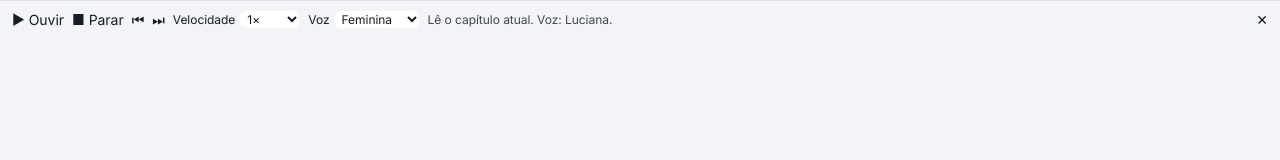
AudioReader › lê em português, pausa, continua e para
This screenshot has width=1280, height=160.
Click the button "▶ Ouvir" at (38, 20), box 12,9 -> 64,31
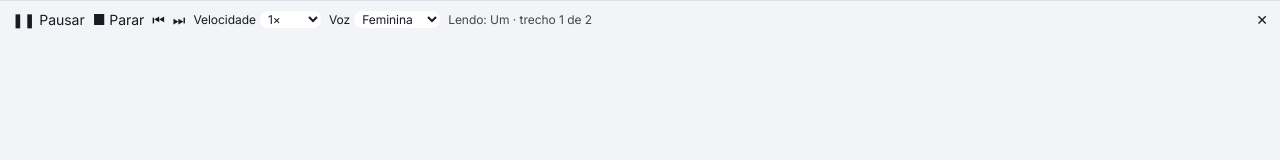
Click the button with aria-label "Pausar leitura" at (48, 20), box 12,9 -> 85,31
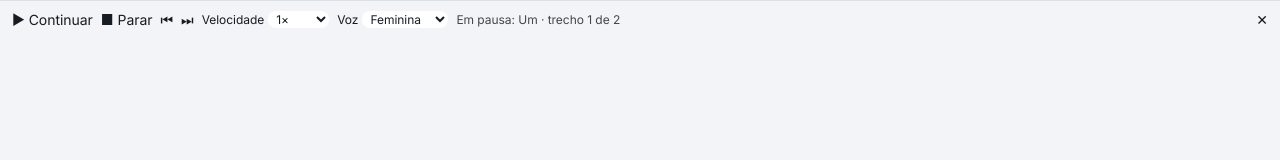
Click the button with aria-label "Continuar leitura" at (52, 20), box 12,9 -> 93,31
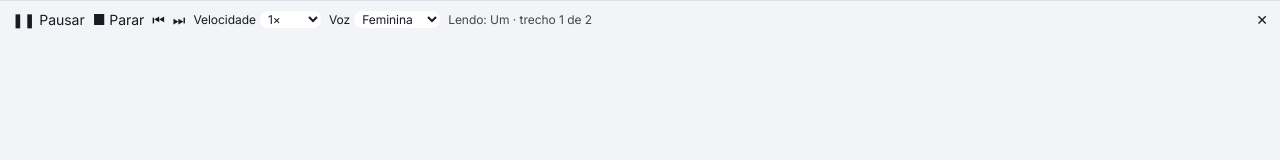
Click the button with aria-label "Parar leitura" at (118, 20), box 93,9 -> 144,31
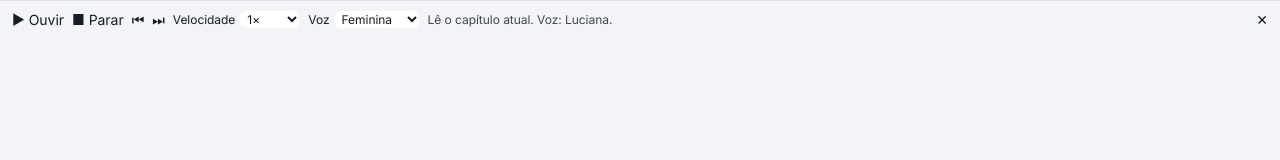
Expected: the button "▶ Ouvir" is shown, 12,9 -> 64,31
